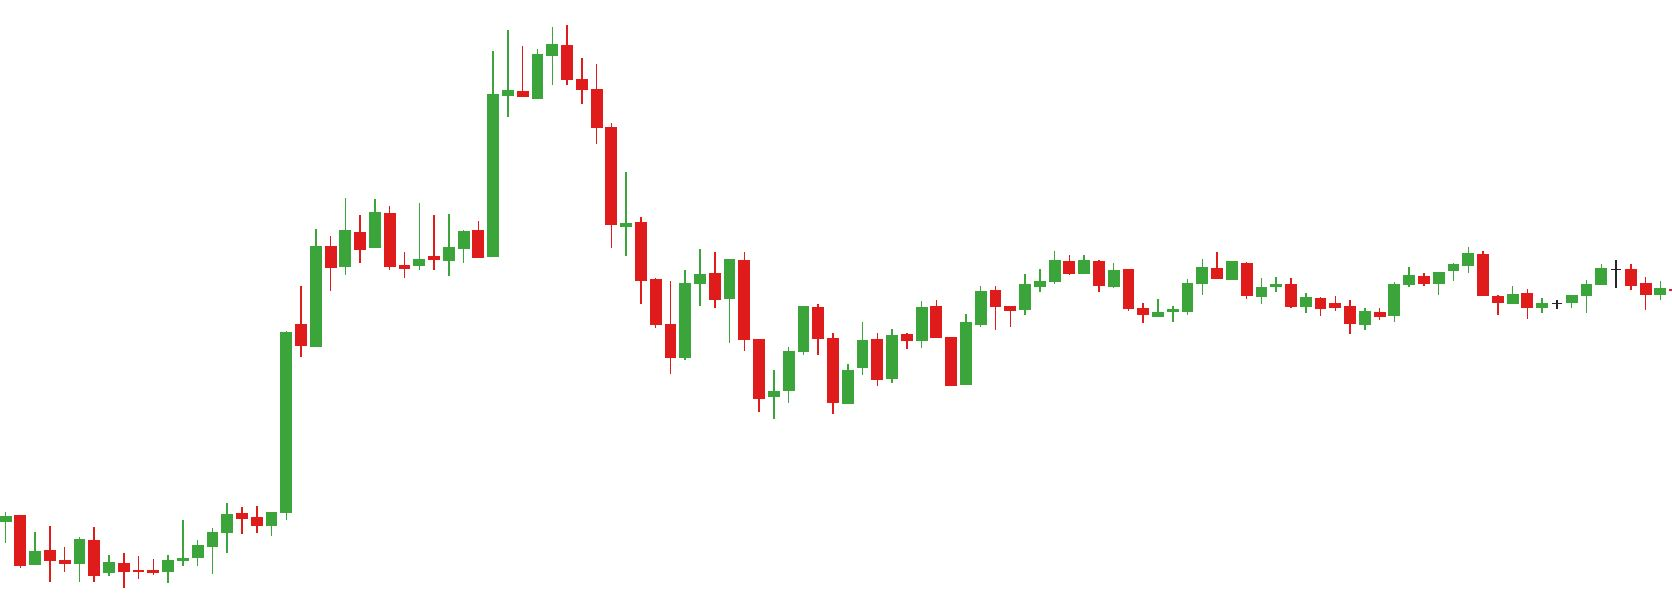buy: (666, 276, 799, 423)
